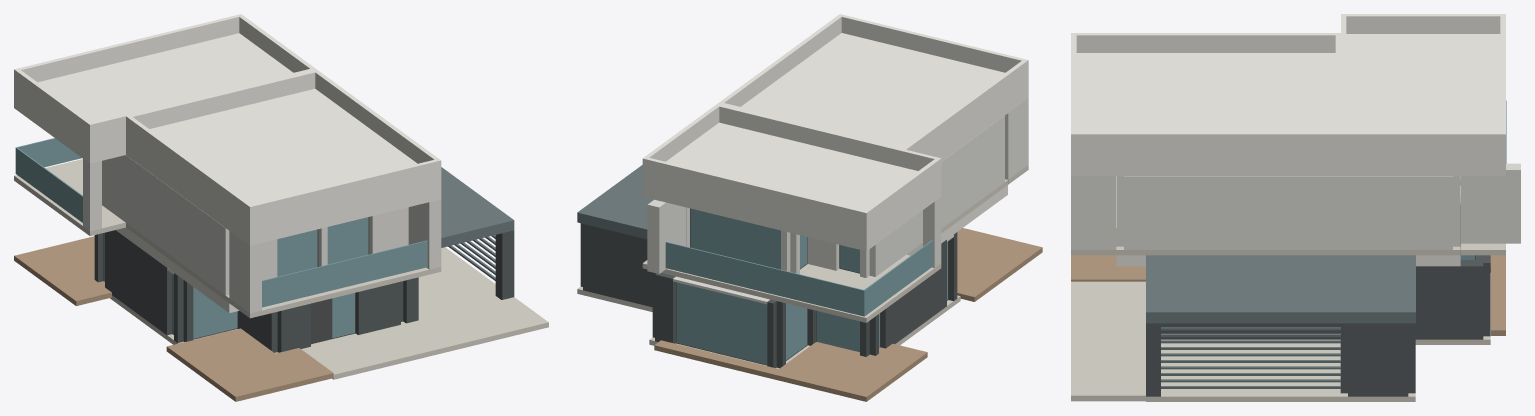
The picture shows the model from 3 angles, left to right: view 1: azimuth 30°, elevation 25°; view 2: azimuth 150°, elevation 25°; view 3: azimuth 270°, elevation 25°; orthographic projection. The views are drawn at different scales.
Parts seen in each view (by area): view 1: main-roof-1, main-roof-0, upper/west/end, carport-apron, balcony-glass-0, ground/kitchen-west/pier-1, parapet-0-3, front-deck, rear-west, parapet-1-2, ground/slab/2, parapet-1-3 (+32 smaller); view 2: main-roof-1, main-roof-0, upper/west/end, ground/living-rear/glass-0, rear-west, balcony-glass-2, ground/store-rear/end, parapet-0-3, parapet-0-2, upper/primary-rear/glass-0, parapet-1-2, carport-roof (+28 smaller); view 3: main-roof-1, upper/east/end, main-roof-0, carport-roof, carport-apron, ground/slab/2, ground/east/end, parapet-1-1, parapet-1-0, ground/store-east/end, balcony-frame-3, balcony-frame-1 (+30 smaller).
Part boxes in pixels (box(x1,y1,x2,y2)): main-roof-1: box(126, 89, 441, 245); main-roof-0: box(14, 33, 293, 163); upper/west/end: box(102, 155, 229, 295); carport-apron: box(301, 297, 548, 379); balcony-glass-0: box(262, 240, 427, 307); ground/kitchen-west/pier-1: box(105, 230, 172, 335); parapet-0-3: box(14, 14, 243, 86); front-deck: box(201, 348, 333, 401); rear-west: box(14, 236, 111, 305); parapet-1-2: box(248, 159, 441, 222); ground/slab/2: box(418, 247, 501, 320); parapet-1-3: box(126, 70, 315, 133); main-roof-1: box(741, 33, 1028, 161); main-roof-0: box(642, 122, 941, 251); upper/west/end: box(869, 116, 1004, 276); ground/living-rear/glass-0: box(676, 282, 767, 364); rear-west: box(772, 342, 927, 401); balcony-glass-2: box(665, 242, 864, 316); ground/store-rear/end: box(583, 224, 652, 307); parapet-0-3: box(642, 157, 868, 228); parapet-0-2: box(715, 104, 941, 175); upper/primary-rear/glass-0: box(690, 208, 780, 269); parapet-1-2: box(841, 15, 1026, 72); carport-roof: box(577, 165, 653, 239); main-roof-1: box(1071, 53, 1340, 176); upper/east/end: box(1124, 176, 1452, 249); main-roof-0: box(1341, 34, 1505, 176); carport-roof: box(1146, 255, 1415, 323); carport-apron: box(1071, 281, 1145, 401); ground/slab/2: box(1146, 339, 1415, 401); ground/east/end: box(1161, 260, 1483, 339); parapet-1-1: box(1071, 132, 1340, 151); parapet-1-0: box(1071, 33, 1340, 52); ground/store-east/end: box(1348, 323, 1408, 396); balcony-frame-3: box(1461, 163, 1520, 243); balcony-frame-1: box(1071, 176, 1115, 249).
Size of the model in its own units: 14.01 by 7.75 by 15.
